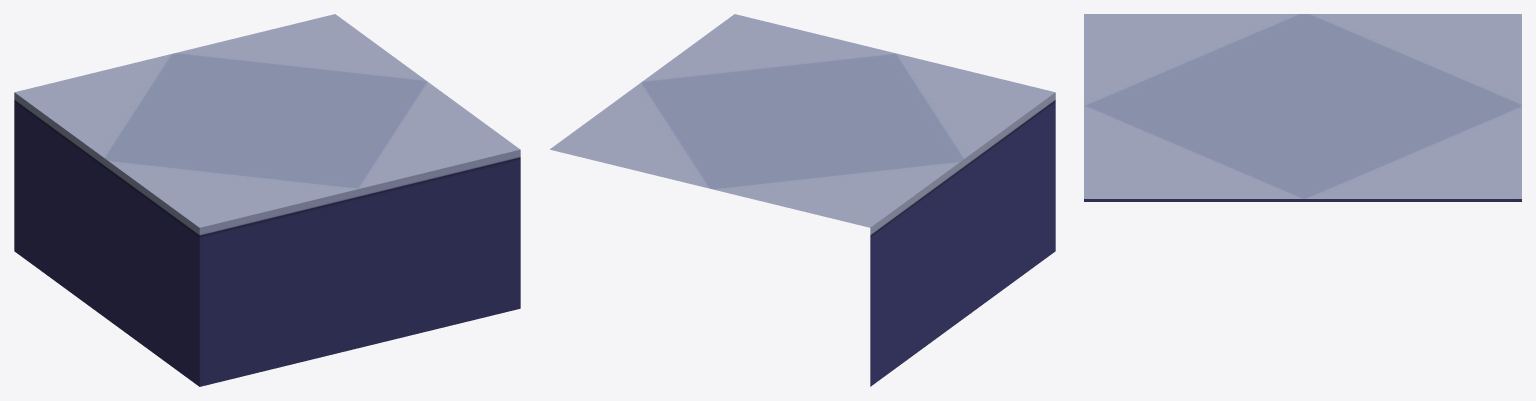
The model's file is my_halloween_01_p_tile.glb.
3 renders of one model, left to right at view 1: azimuth 30°, elevation 25°; view 2: azimuth 150°, elevation 25°; view 3: azimuth 270°, elevation 25°, orthographic. The views are drawn at different scales.
Visible parts, largest first — view 1: my_halloween_01_p_tile; view 2: my_halloween_01_p_tile; view 3: my_halloween_01_p_tile.
Part boxes in pixels (x1,y1,x2,y2): my_halloween_01_p_tile: [14, 14, 520, 386]; my_halloween_01_p_tile: [550, 14, 1055, 386]; my_halloween_01_p_tile: [1084, 14, 1521, 201].
Size of the model in its own units: 0.006 by 0.00284 by 0.006.
1 material, 1 textured.
